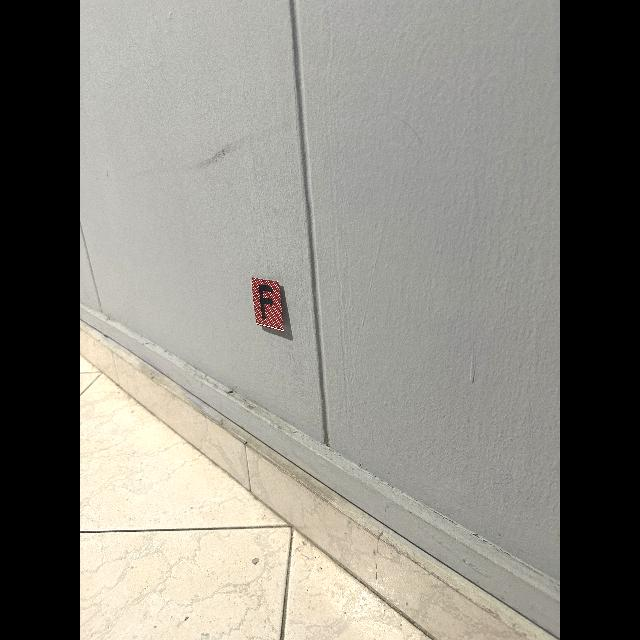F: (259, 285, 273, 319)
